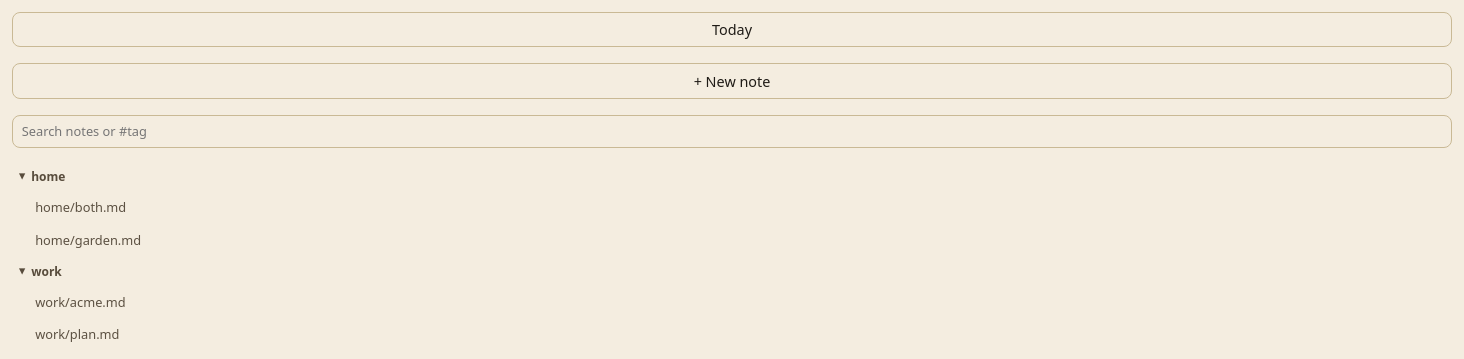
Test case: NoteBrowser tag search › suggests tags with counts on #, and Enter picks the first
In the dropdown labelled "Search notes": (732,131) [19,120,1445,142], type "#wo"
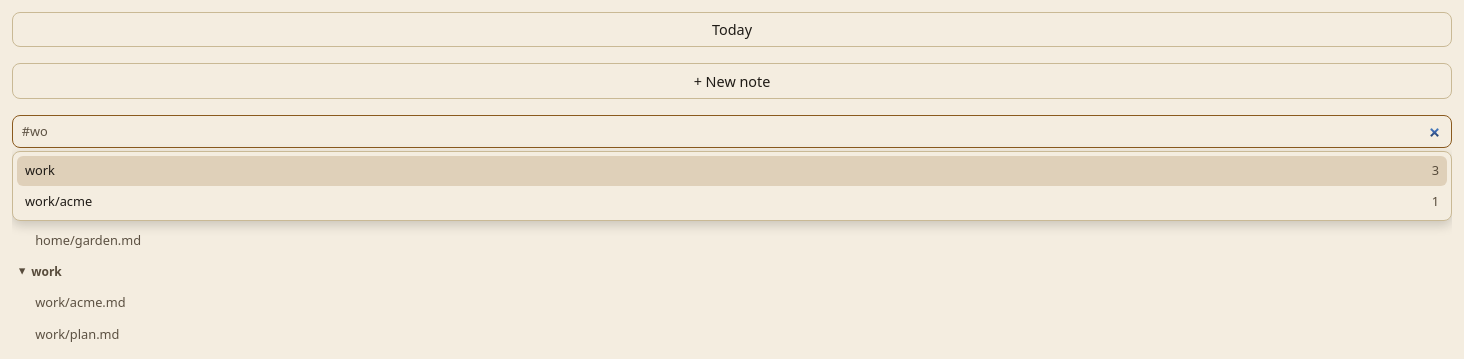
expect the options read "work3", "work/acme1", in this order: met, box [17,156,1447,186]; [25,192,1439,210]
expect the dropdown named "Search notes" is expanded: met, box [19,120,1445,142]
Press Enter
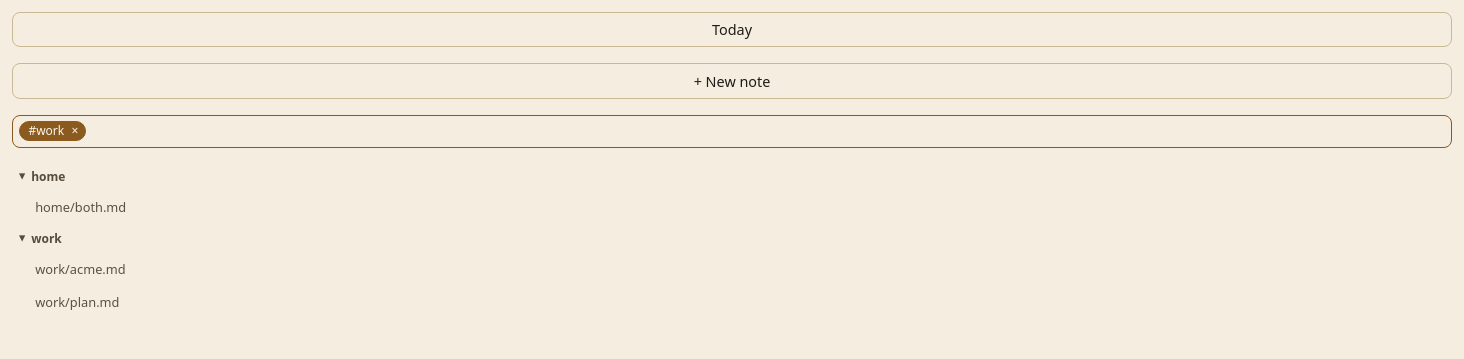
expect the dropdown named "Search notes" is empty: met, box [91,120,1445,142]
expect the button named "Remove tag work" is shown: met, box [64,122,86,140]
